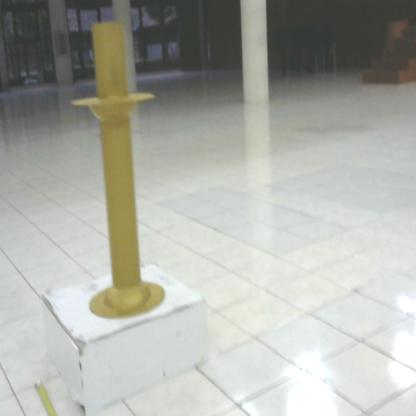pole: (60, 14, 181, 332)
